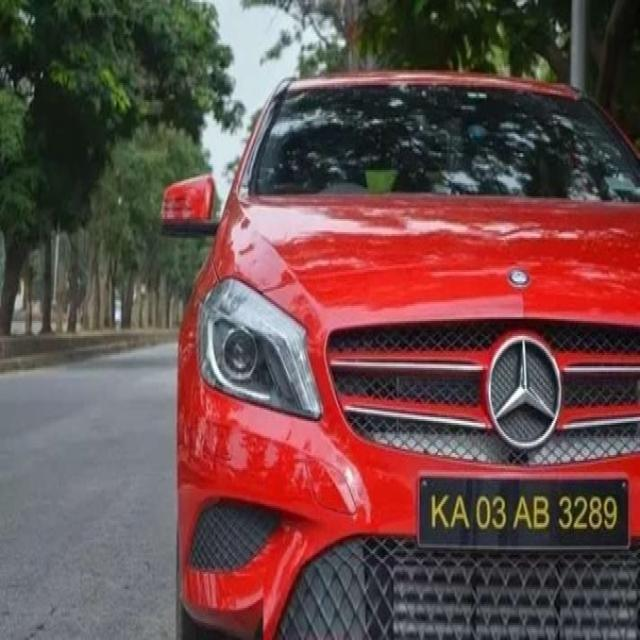plate: (418, 472, 630, 549)
